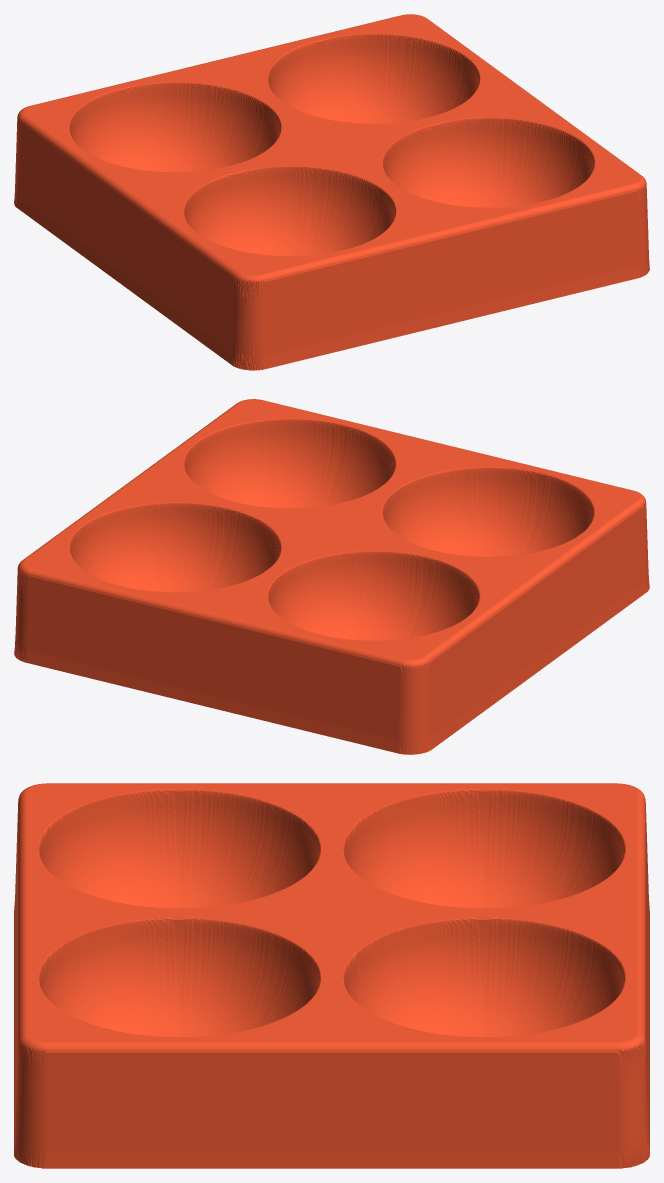
Rendered from mold.glb.
3 views of the same model, one above another, from view 1: azimuth 30°, elevation 25°; view 2: azimuth 150°, elevation 25°; view 3: azimuth 270°, elevation 25° (orthographic). The views are drawn at different scales.
Parts seen in each view (by area): view 1: geometry_0; view 2: geometry_0; view 3: geometry_0.
Boxes of the visible parts, x1=… form: geometry_0: x1=14, y1=14, x2=649, y2=370; geometry_0: x1=14, y1=399, x2=649, y2=754; geometry_0: x1=14, y1=783, x2=649, y2=1168.
Bounding box in the file's own units: 0.1737 × 0.0365 × 0.1737.
